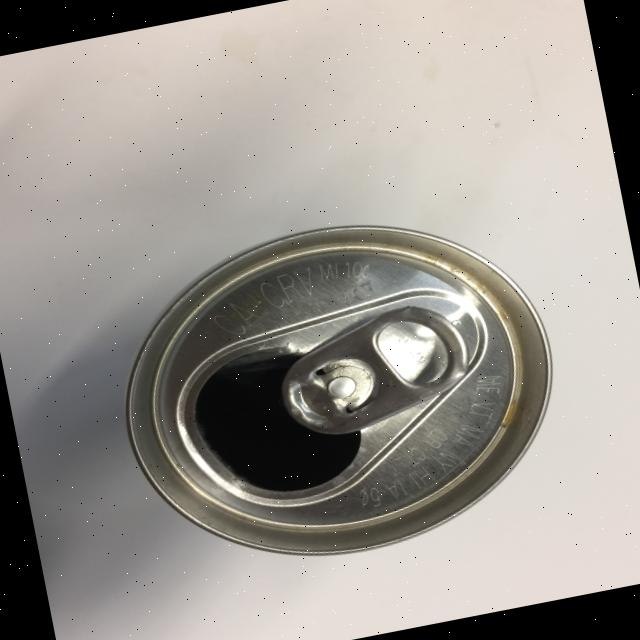metal: (96, 188, 582, 591)
